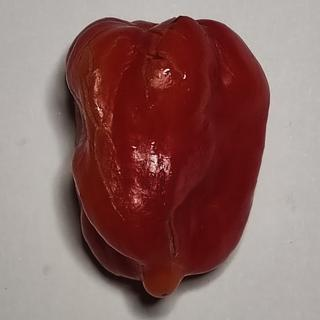Grade-A: (59, 13, 273, 300)
